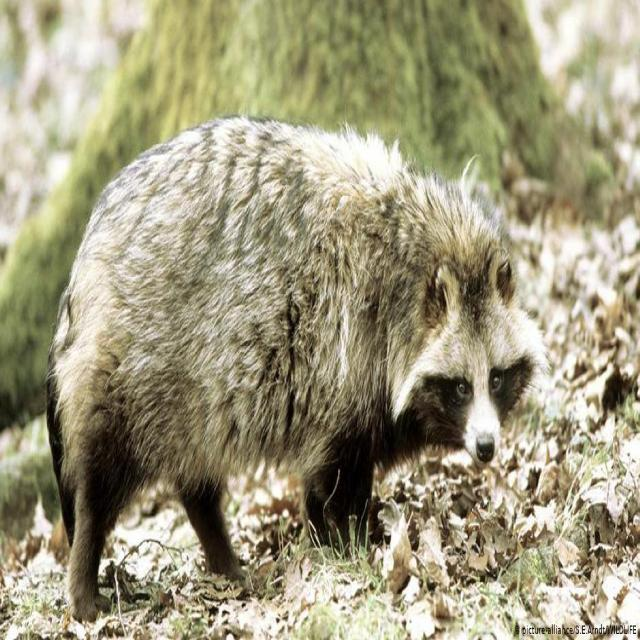Raccoon: (51, 103, 537, 603)
